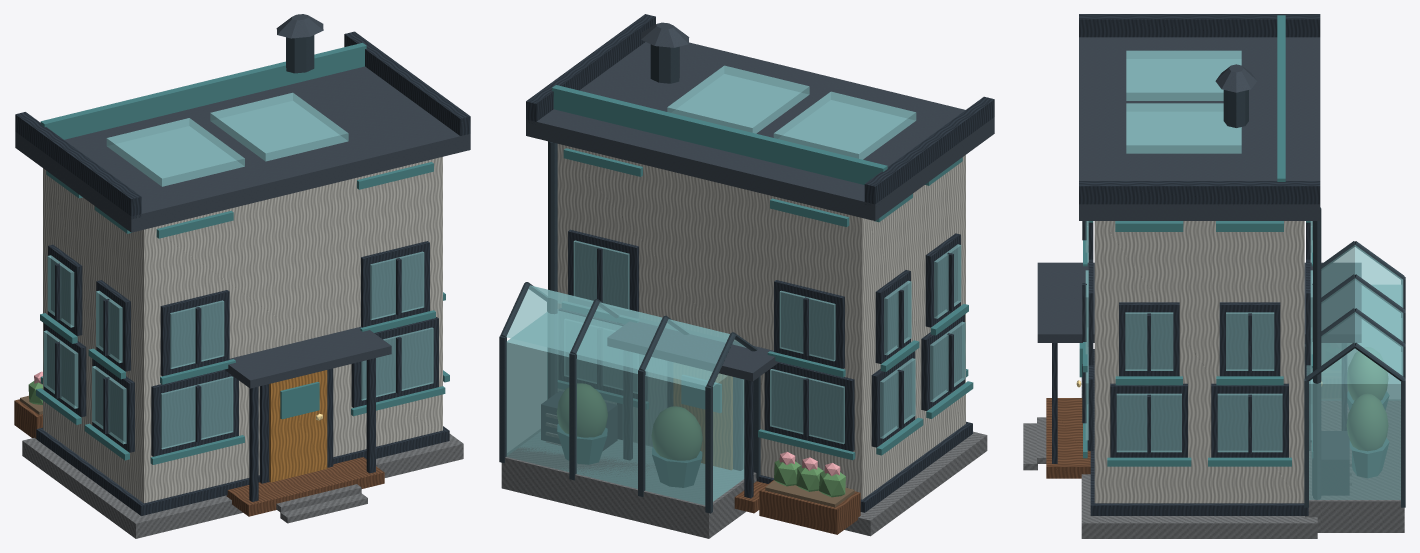
The model's file is house_modern_lv5_greenhouse.glb.
3 renders of one model, left to right at view 1: azimuth 30°, elevation 25°; view 2: azimuth 150°, elevation 25°; view 3: azimuth 270°, elevation 25°, orthographic. The views are drawn at different scales.
Visible parts, largest first — view 1: walls, flat_roof, roof_terrace, foundation, solar_panel.001, solar_panel, front_window_frame, front_porch_canopy, front_door, front_window_frame.002, front_window_frame.001, front_window_frame.003 (+31 smaller); view 2: walls, greenhouse_glazing, flat_roof, greenhouse_roof, greenhouse_plinth, roof_terrace, back_window_frame, solar_panel, solar_panel.001, back_window_frame.002, back_porch_canopy, back_window_frame.003 (+42 smaller); view 3: walls, flat_roof, greenhouse_glazing, greenhouse_roof, greenhouse_plinth, foundation, parapet.001, parapet, solar_panel.001, right_window_frame.001, right_window_frame, solar_panel (+32 smaller).
Boxes of the visible parts, box(x1,y1,x2,y2) form: walls: box(43, 157, 442, 503); flat_roof: box(15, 66, 470, 232); roof_terrace: box(40, 42, 366, 139); foundation: box(22, 434, 463, 538); solar_panel.001: box(210, 92, 348, 161); solar_panel: box(106, 118, 244, 186); front_window_frame: box(151, 369, 238, 456); front_porch_canopy: box(224, 326, 391, 388); front_door: box(269, 370, 327, 482); front_window_frame.002: box(160, 290, 229, 376); front_window_frame.001: box(351, 317, 438, 407); front_window_frame.003: box(361, 241, 429, 327); walls: box(557, 144, 965, 499); greenhouse_glazing: box(506, 311, 744, 505); flat_roof: box(526, 42, 994, 220); greenhouse_roof: box(506, 285, 745, 385); greenhouse_plinth: box(501, 447, 756, 538); roof_terrace: box(552, 85, 887, 184); back_window_frame: box(764, 362, 854, 451); solar_panel: box(773, 91, 916, 159); solar_panel.001: box(667, 65, 809, 133); back_window_frame.002: box(774, 280, 844, 368); back_porch_canopy: box(607, 321, 778, 381); back_window_frame.003: box(568, 229, 638, 311); walls: box(1094, 221, 1304, 503); flat_roof: box(1079, 37, 1320, 220); greenhouse_glazing: box(1309, 285, 1401, 499); greenhouse_roof: box(1306, 245, 1403, 375); greenhouse_plinth: box(1305, 400, 1404, 532); foundation: box(1081, 377, 1317, 538); parapet.001: box(1079, 181, 1320, 204); parapet: box(1079, 14, 1320, 37); solar_panel.001: box(1126, 103, 1241, 153); right_window_frame.001: box(1211, 383, 1288, 457); right_window_frame: box(1110, 383, 1187, 457); solar_panel: box(1126, 50, 1241, 100).
Size of the model in its own units: 6.6 by 7.6 by 6.19.
13 materials, 7 textured.
